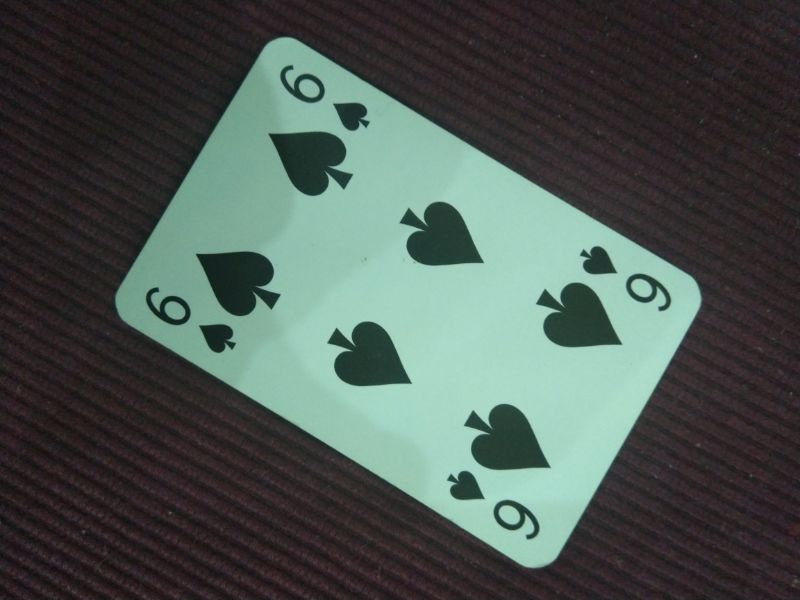6s: (441, 466, 543, 542), (577, 242, 675, 318), (142, 280, 239, 356), (277, 61, 374, 134)
